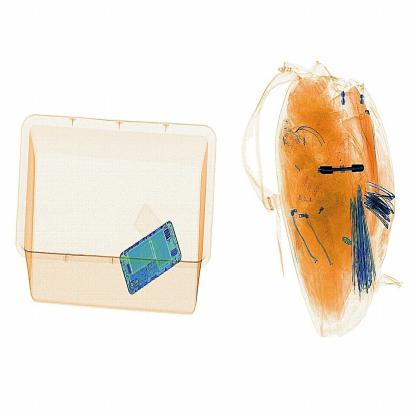knife: (315, 161, 368, 178)
